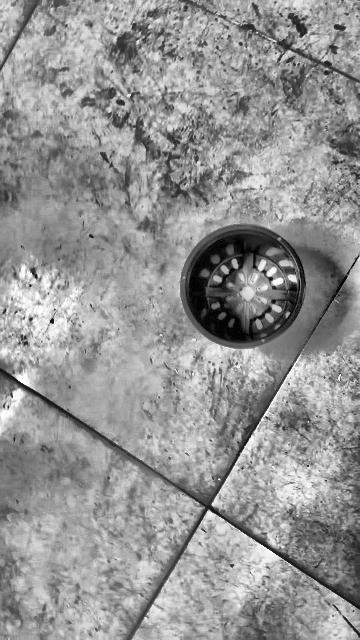pot: (180, 225, 307, 349)
